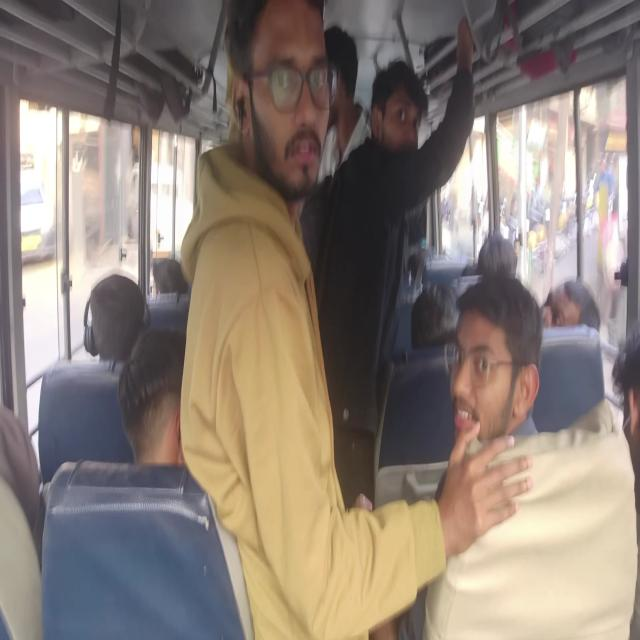person: (248, 5, 333, 199), (445, 277, 529, 426), (114, 336, 214, 457), (84, 279, 149, 355), (374, 60, 427, 122), (544, 278, 602, 334), (411, 288, 444, 350), (474, 234, 516, 281)
